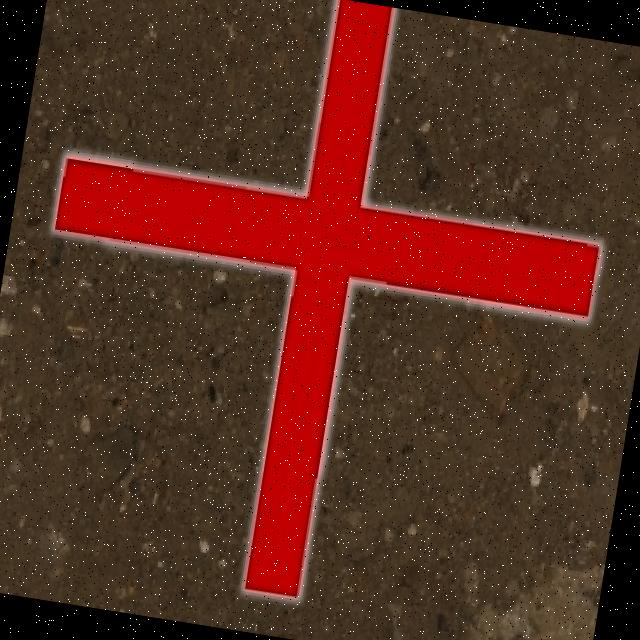x_marker: (3, 0, 631, 633)
